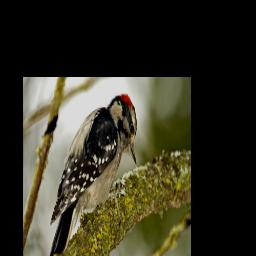Woodpecker: (41, 91, 137, 256)
